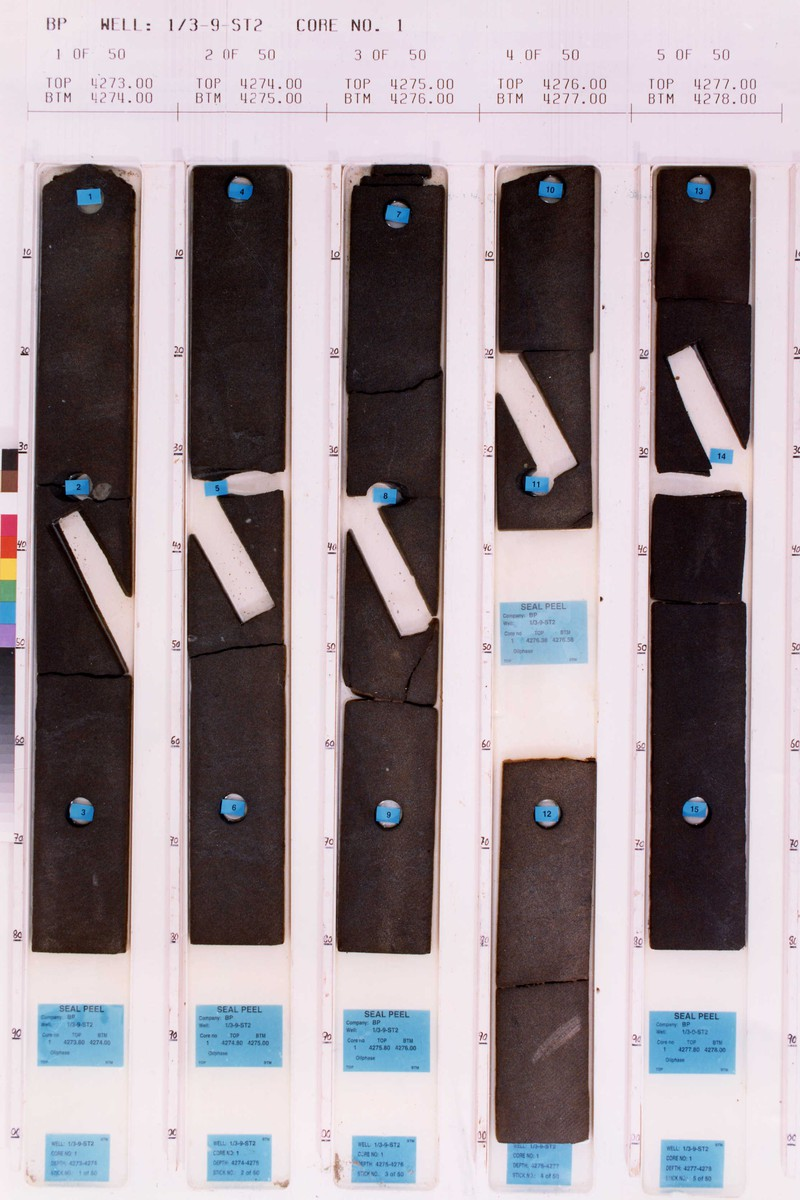core: (335, 166, 446, 957), (184, 166, 292, 948), (645, 167, 751, 956), (31, 167, 134, 957), (497, 756, 599, 1148), (493, 163, 599, 536)
